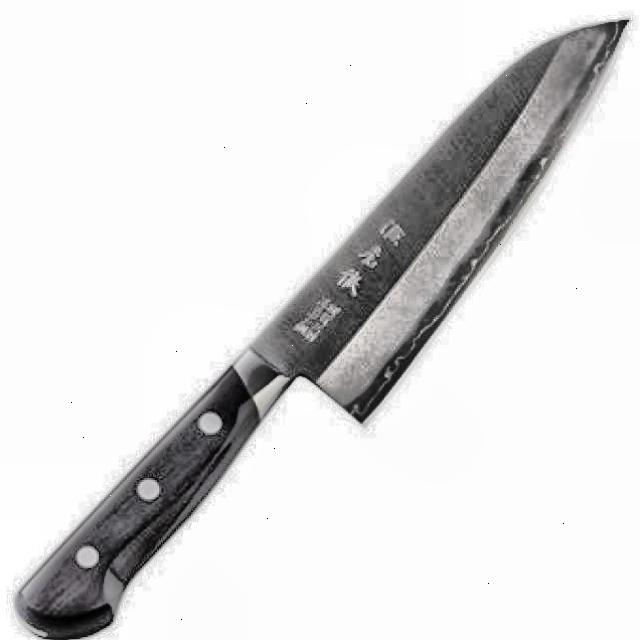knife: (11, 16, 631, 640)
